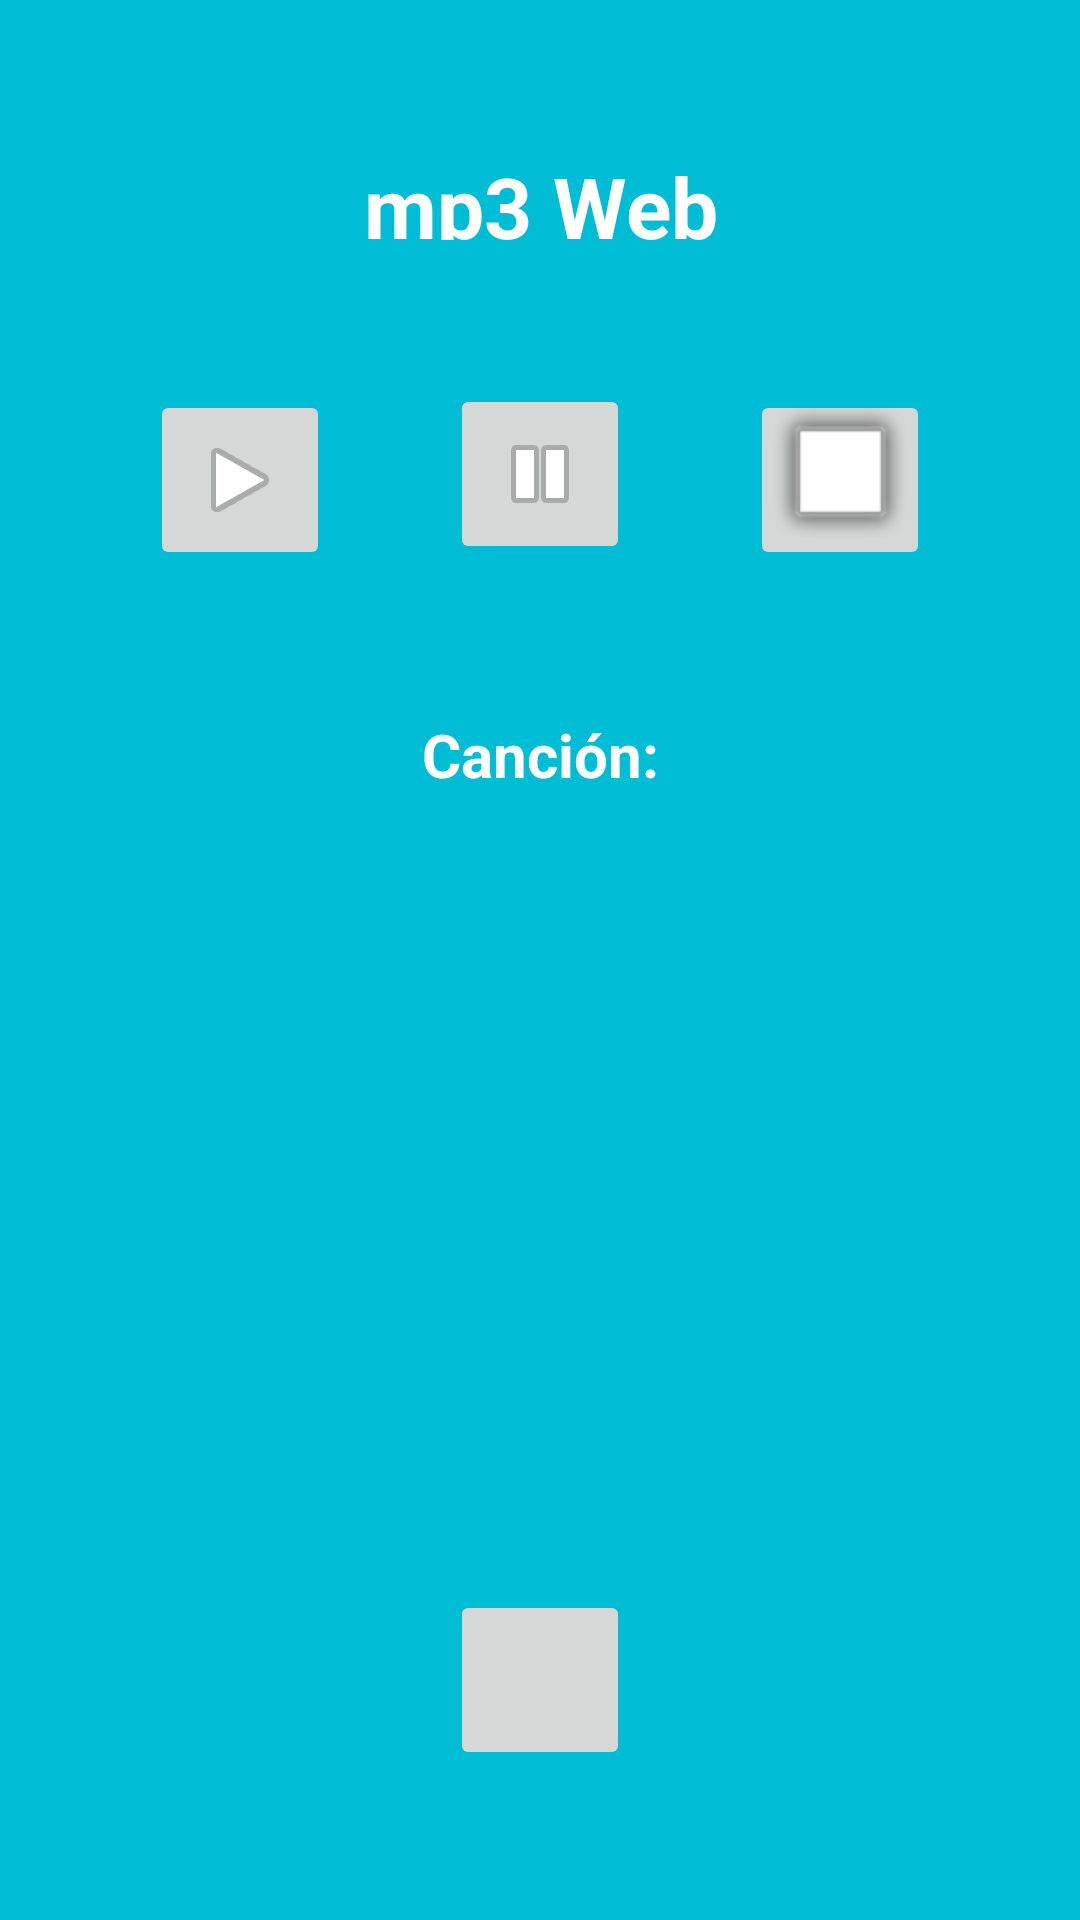

Named icons in this screenshot (1080px×1920px) and their centers, (x,y):
pause: (540,474)
play: (240,480)
